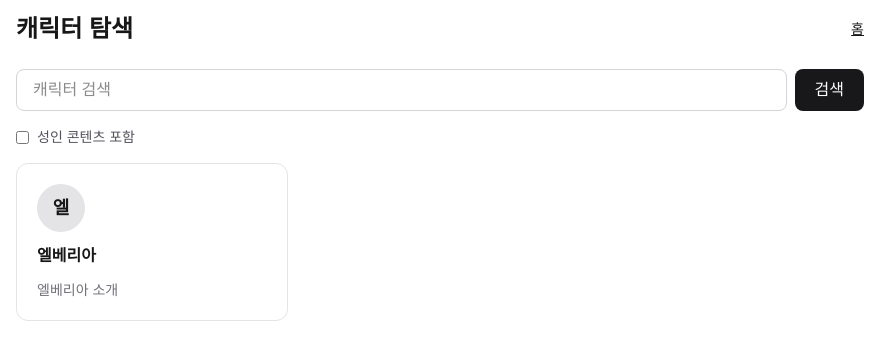
DiscoverPage (#24) › 검색어 제출 시 fetchPublicCharacters(q, filters)로 다시 조회하고 결과를 렌더한다
expect the text "엘베리아" is shown: met, box [37,247,96,264]
Type "마법" into the search field with placeholder "캐릭터 검색" at x=401, y=90, box [16,69,786,111]
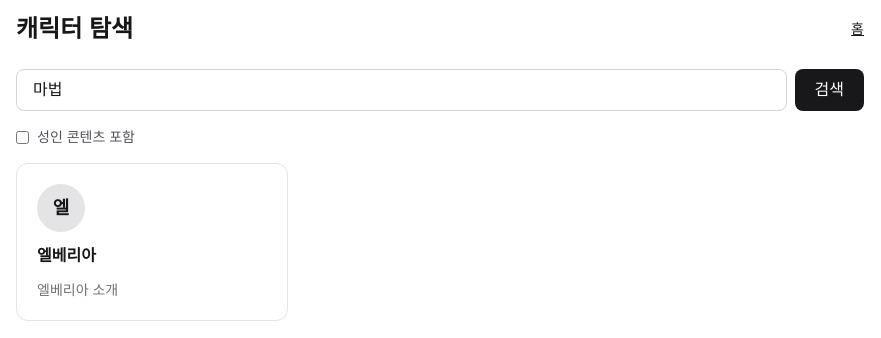
Submit the form, box [16,69,864,111]
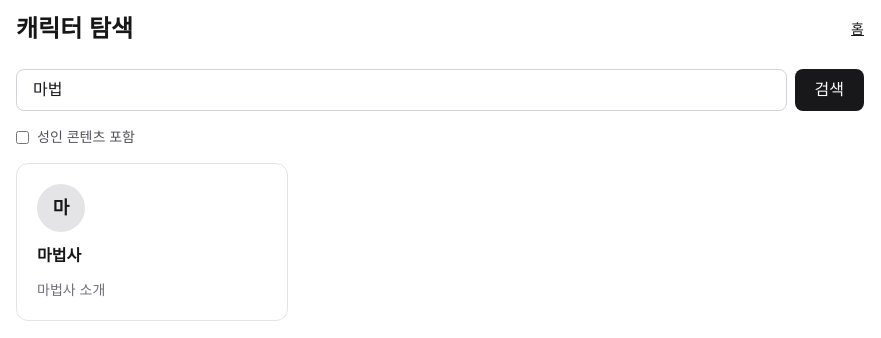
expect the text "마법사" is shown: met, box [37,247,81,264]
